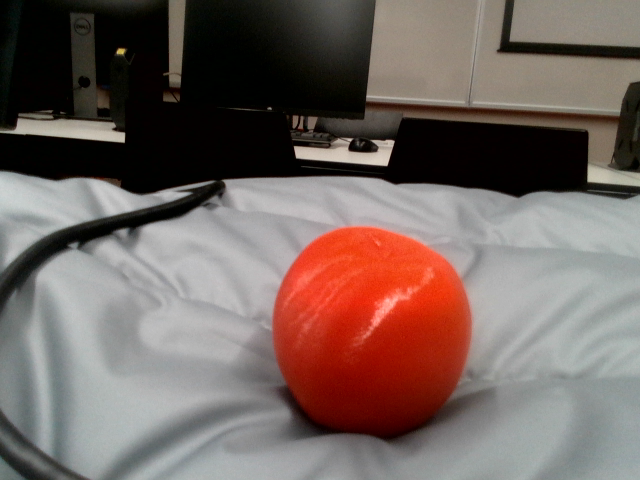red apple: (246, 206, 495, 460)
